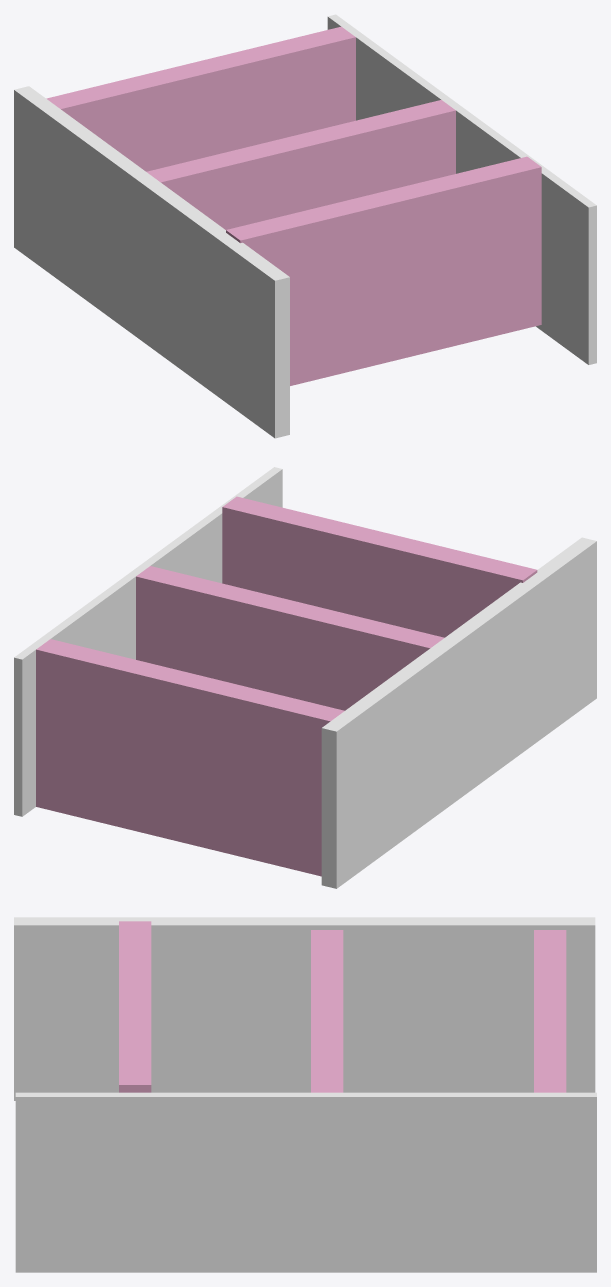
The model's file is tinker.obj.
The picture shows the model from 3 angles, top to bottom: view 1: azimuth 30°, elevation 25°; view 2: azimuth 150°, elevation 25°; view 3: azimuth 270°, elevation 25°; orthographic projection. The views are drawn at different scales.
Visible parts, largest first — view 1: group_0_15708628, group_0_16448250; view 2: group_0_15708628, group_0_16448250; view 3: group_0_16448250, group_0_15708628.
Boxes of the visible parts, <box> form: group_0_15708628: <box>46,26,541,385</box>; group_0_16448250: <box>14,14,596,438</box>; group_0_15708628: <box>36,496,537,876</box>; group_0_16448250: <box>14,467,596,888</box>; group_0_16448250: <box>14,917,596,1272</box>; group_0_15708628: <box>119,921,566,1092</box>.
Bounding box in the file's own units: 257 × 125 × 361.
